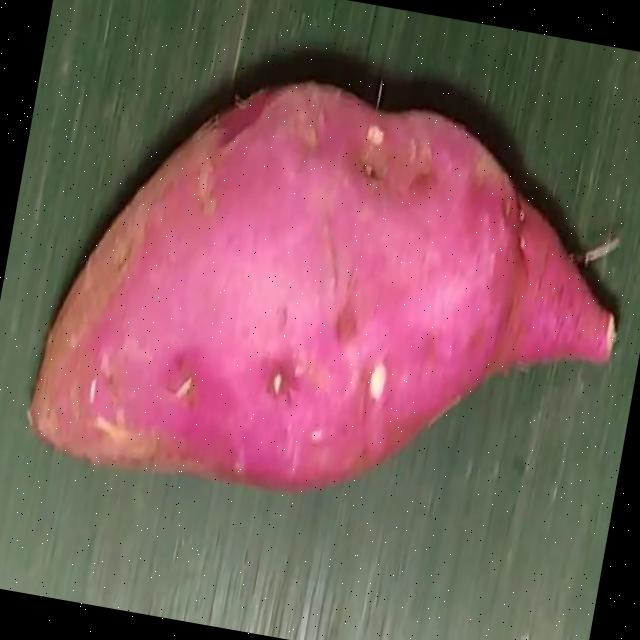Sweet Potato: (24, 79, 618, 492)
